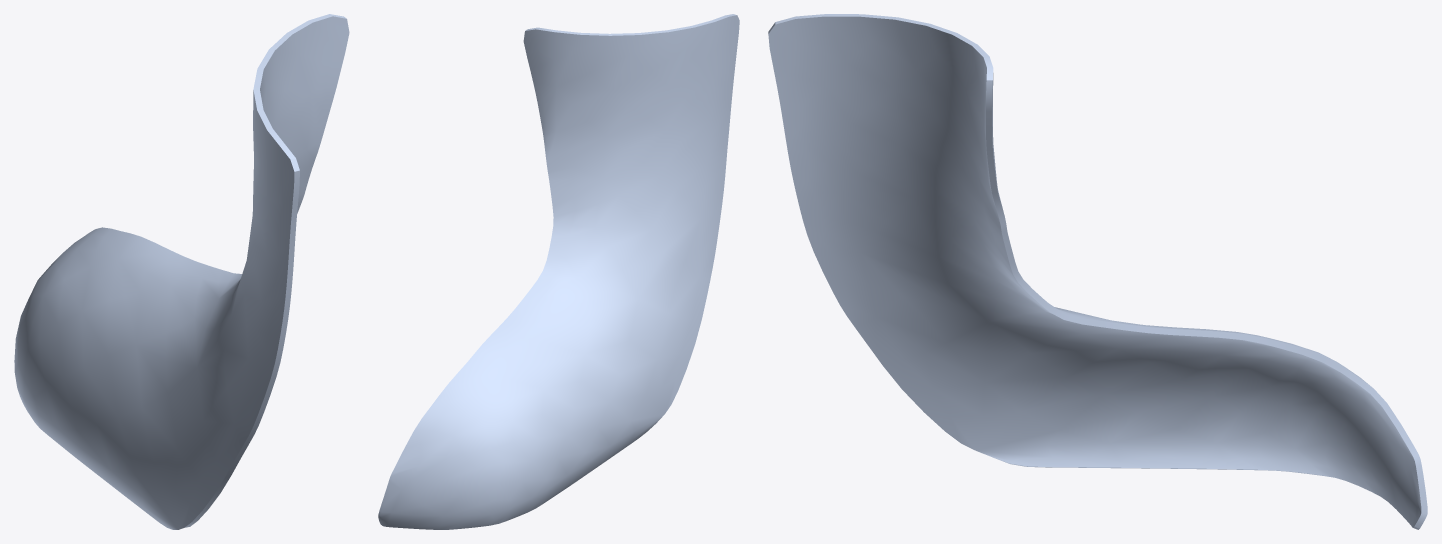
The model's file is rh_big_toe.fbx.
The picture shows the model from 3 angles, left to right: view 1: azimuth 30°, elevation 25°; view 2: azimuth 150°, elevation 25°; view 3: azimuth 270°, elevation 25°; orthographic projection. The views are drawn at different scales.
Parts seen in each view (by area): view 1: big toe; view 2: big toe; view 3: big toe.
Boxes of the visible parts, left/top/right/bottom form: big toe: left=14, top=14, right=349, bottom=529; big toe: left=378, top=14, right=739, bottom=529; big toe: left=768, top=14, right=1427, bottom=529.
Bounding box in the file's own units: 319 × 831 × 1052.
